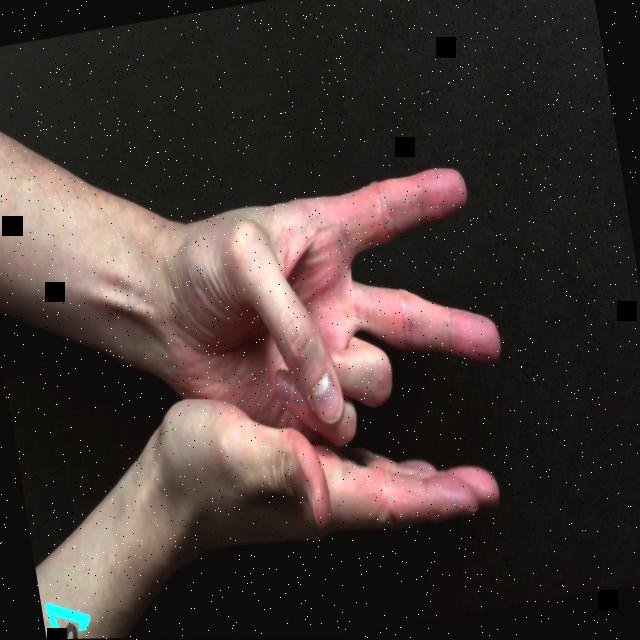Scissors: (140, 157, 512, 469)
